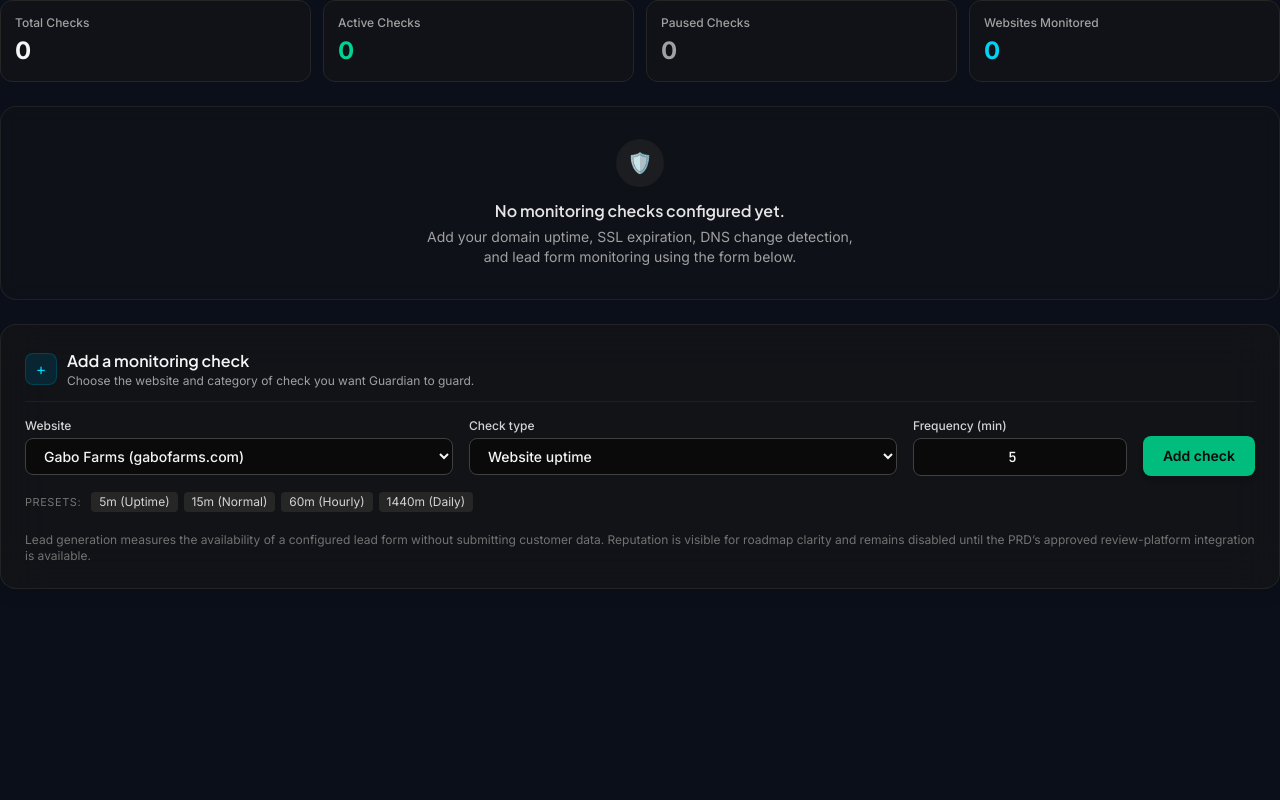
Test: MonitoringPanel › surfaces clear backend error message when monitor creation conflicts
// Select website and click Add check
What coordinates should you click on to do the following:
click the button "Add check"
I would click on:
 (1199, 456)
Its box is top-left (1143, 436), bottom-right (1255, 476).
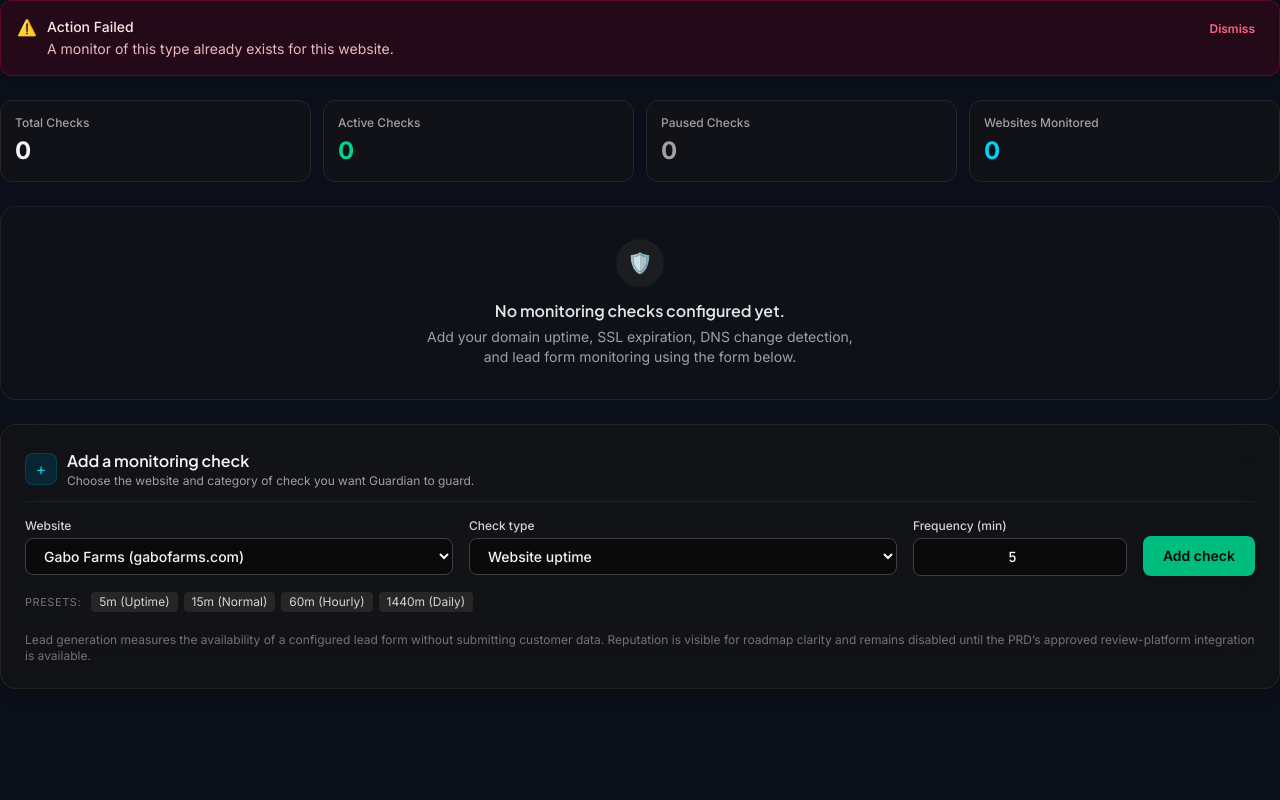
Now the text "A monitor of this type already exists for this website." is shown, box top-left (47, 39), bottom-right (394, 59)
